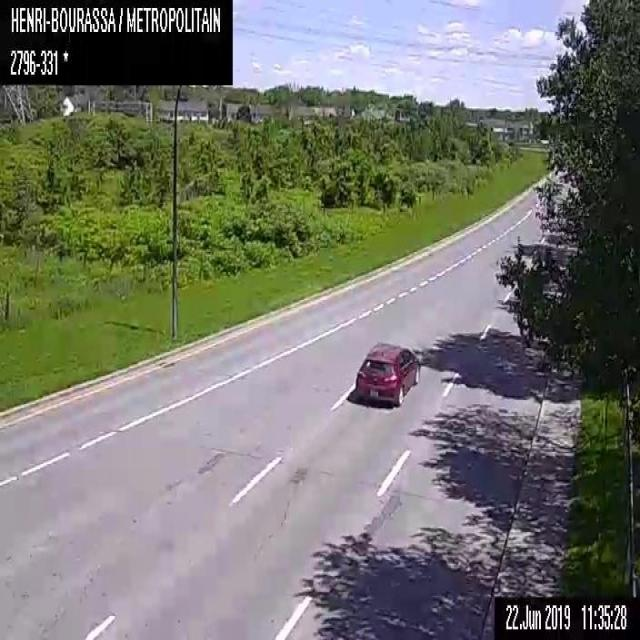vehicle: (354, 341, 420, 407)
